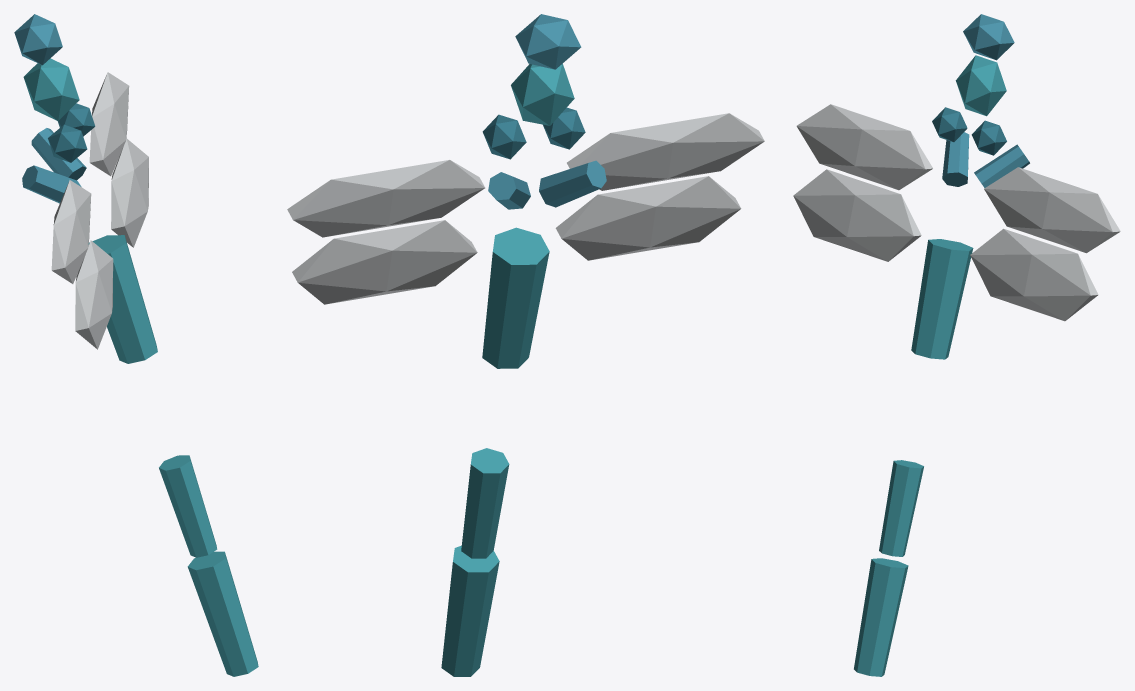
3 renders of one model, left to right at view 1: azimuth 30°, elevation 25°; view 2: azimuth 150°, elevation 25°; view 3: azimuth 270°, elevation 25°, orthographic. The views are drawn at different scales.
Visible parts, largest first — view 1: part1, part0, part10, part2, part9, part8, part7, part3, part4, part12, part11, part6 (+1 smaller); view 2: part10, part9, part7, part8, part0, part1, part2, part3, part4, part12, part5, part11 (+1 smaller); view 3: part9, part10, part7, part8, part0, part1, part2, part3, part4, part12, part11, part6 (+1 smaller).
Boxes of the visible parts, bbox=[...] form: part1: bbox=[187, 551, 258, 676]; part0: bbox=[88, 235, 157, 363]; part10: bbox=[75, 240, 113, 349]; part2: bbox=[159, 455, 217, 557]; part9: bbox=[111, 138, 148, 247]; part8: bbox=[51, 180, 91, 283]; part7: bbox=[89, 72, 129, 176]; part3: bbox=[23, 58, 79, 120]; part4: bbox=[14, 14, 62, 65]; part12: bbox=[22, 165, 81, 203]; part11: bbox=[31, 128, 86, 180]; part6: bbox=[48, 124, 87, 162]; part10: bbox=[555, 176, 741, 260]; part9: bbox=[292, 220, 477, 304]; part7: bbox=[287, 160, 485, 237]; part8: bbox=[567, 113, 764, 190]; part0: bbox=[482, 227, 549, 368]; part1: bbox=[441, 545, 499, 676]; part2: bbox=[461, 448, 509, 558]; part3: bbox=[511, 63, 574, 125]; part4: bbox=[515, 14, 581, 69]; part12: bbox=[539, 160, 606, 207]; part5: bbox=[482, 114, 526, 159]; part11: bbox=[488, 172, 530, 209]; part9: bbox=[970, 228, 1098, 321]; part10: bbox=[793, 169, 921, 261]; part7: bbox=[984, 167, 1120, 253]; part8: bbox=[796, 104, 932, 190]; part0: bbox=[911, 239, 973, 359]; part1: bbox=[854, 558, 908, 676]; part2: bbox=[879, 460, 923, 556]; part3: bbox=[955, 55, 1006, 116]; part4: bbox=[963, 14, 1014, 60]; part12: bbox=[942, 132, 969, 186]; part11: bbox=[974, 144, 1029, 187]; part6: bbox=[932, 107, 967, 142].
Size of the model in its own units: 8.32 by 20.2 by 10.11.
